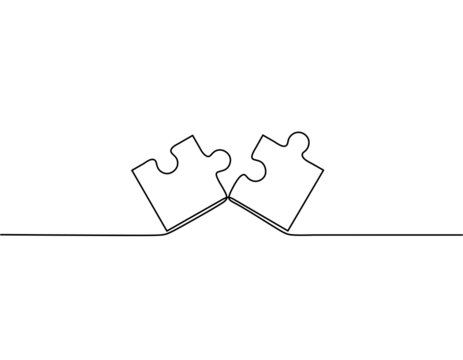puzzle piece: (223, 128, 329, 236), (125, 125, 233, 225)
